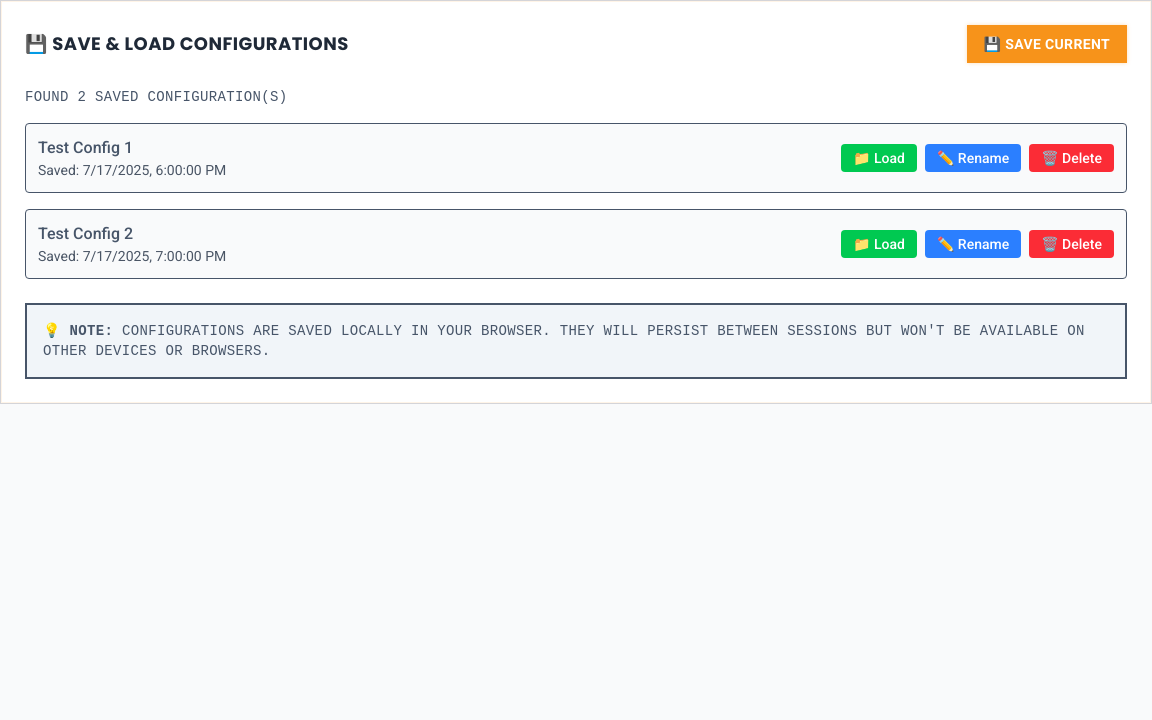
Scenario: SaveLoadSection › should open save dialog when save button is clicked
Click the button "💾 SAVE CURRENT". click: (1047, 44)
box: [967,25,1127,63]
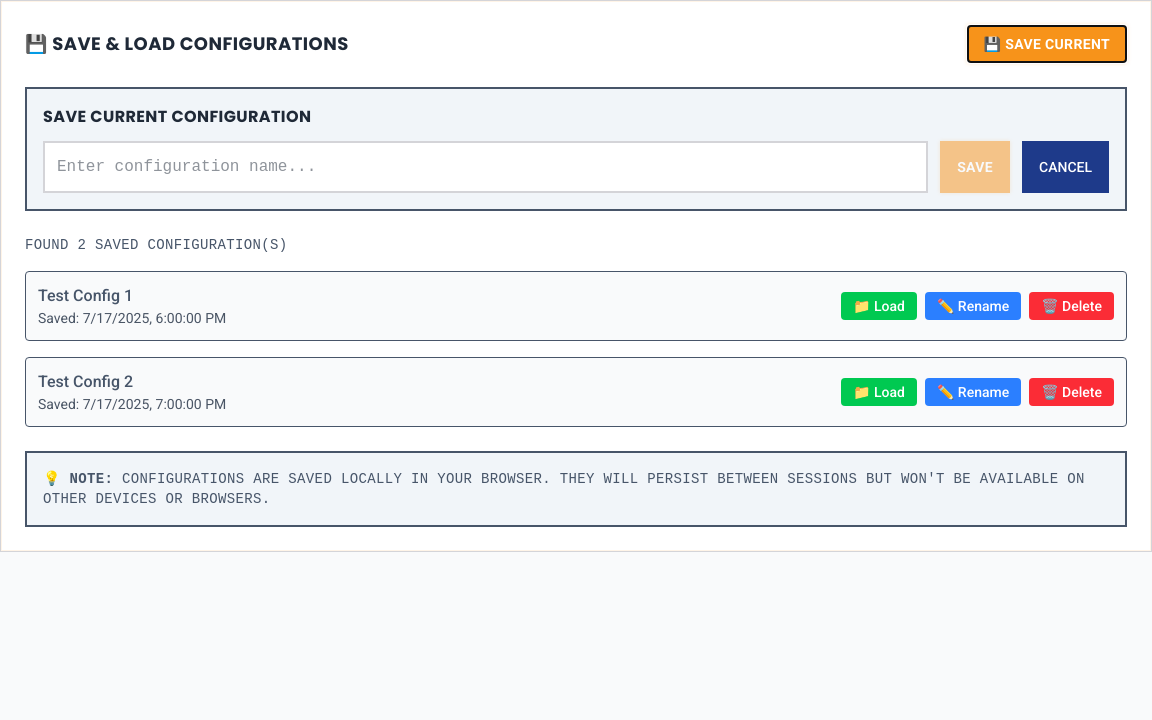
Expected: the heading "SAVE CURRENT CONFIGURATION" is shown, [43,105,311,128]
Expected: the field with placeholder "Enter configuration name..." is shown, [43,141,928,193]
